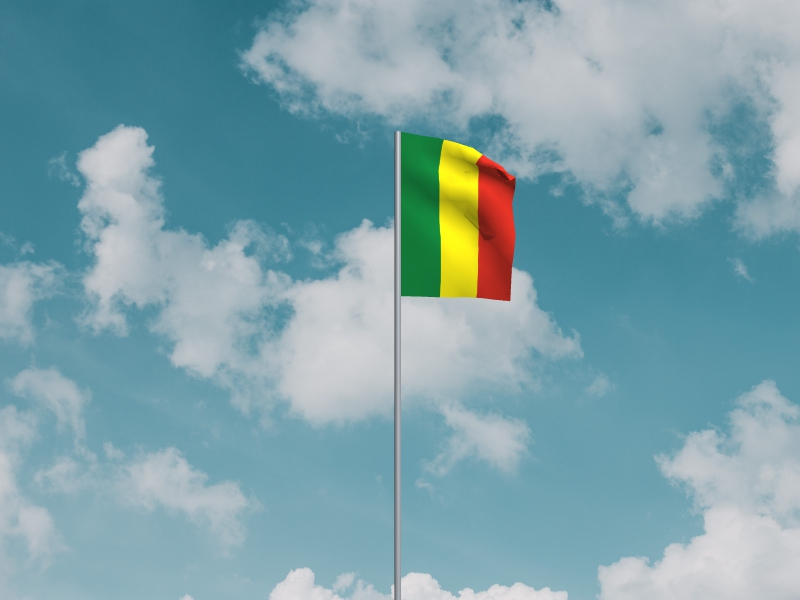bo: (402, 133, 518, 304)
